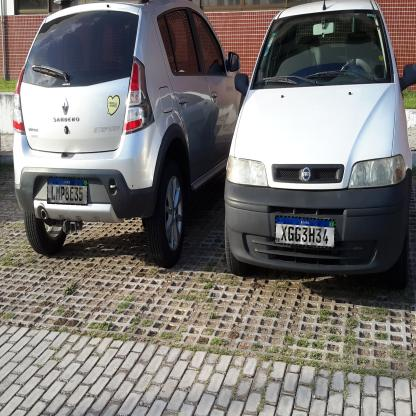PlacaM: (274, 216, 336, 249), (47, 176, 88, 206)
